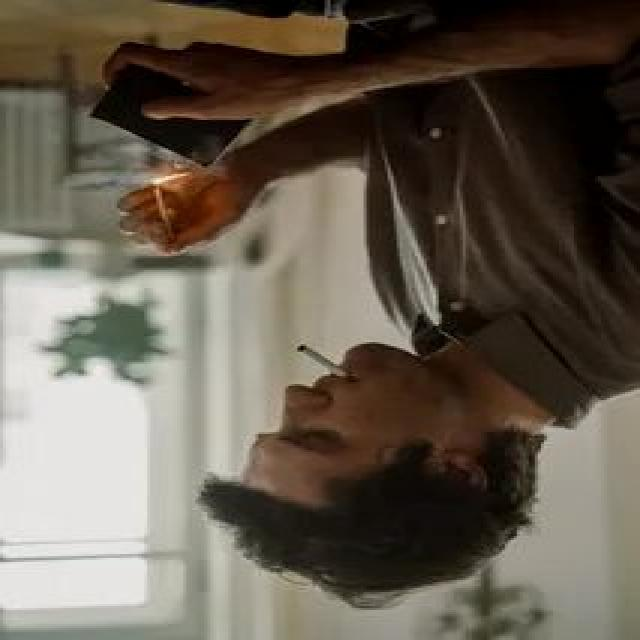smoke: (294, 342, 354, 384)
